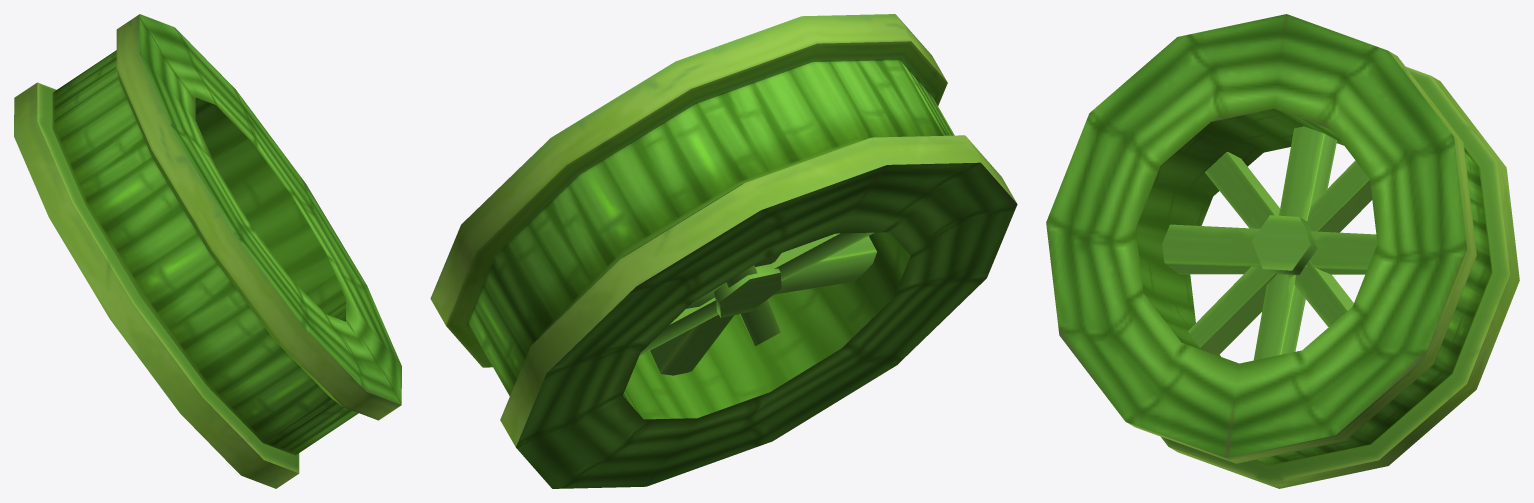
Rendered from Chapter2Model1Model3.FBX.
3 renders of one model, left to right at view 1: azimuth 30°, elevation 25°; view 2: azimuth 150°, elevation 25°; view 3: azimuth 270°, elevation 25°, orthographic. The views are drawn at different scales.
Parts seen in each view (by area): view 1: Chapter2Model1Model3; view 2: Chapter2Model1Model3; view 3: Chapter2Model1Model3.
Part boxes in pixels (x1,y1,x2,y2): Chapter2Model1Model3: (14,14,401,488); Chapter2Model1Model3: (430,14,1017,488); Chapter2Model1Model3: (1046,14,1519,488).
Size of the model in its own units: 113 by 128 by 123.
